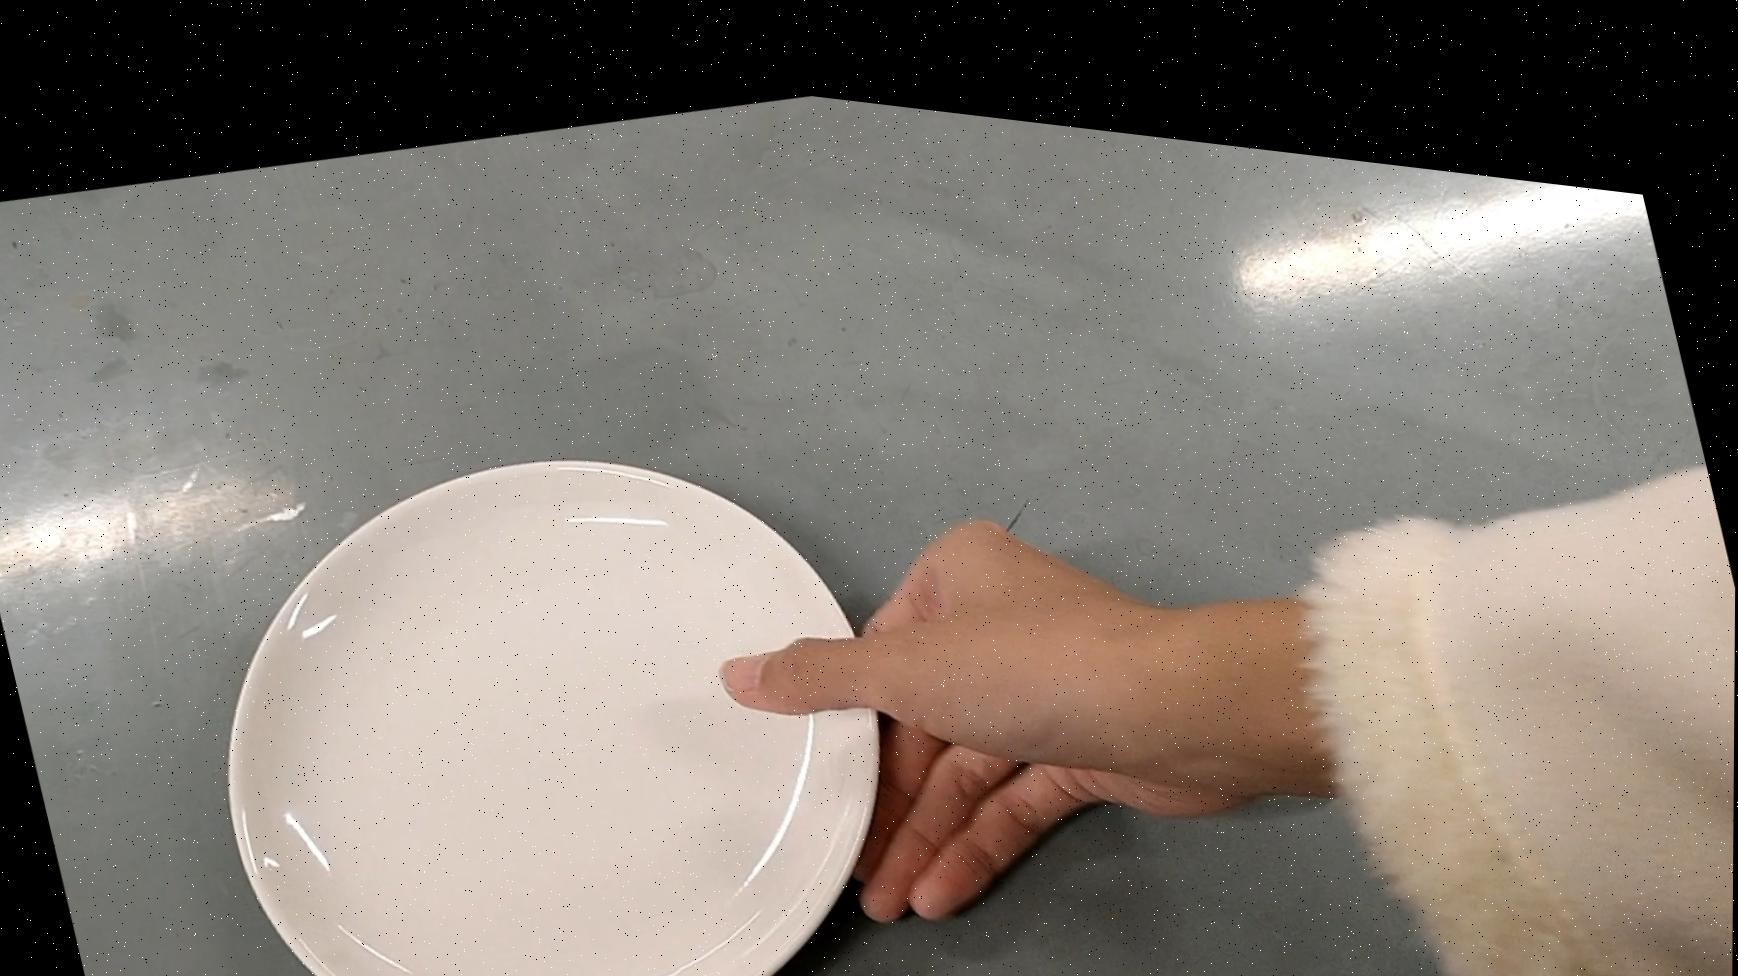plate: (152, 338, 956, 976)
